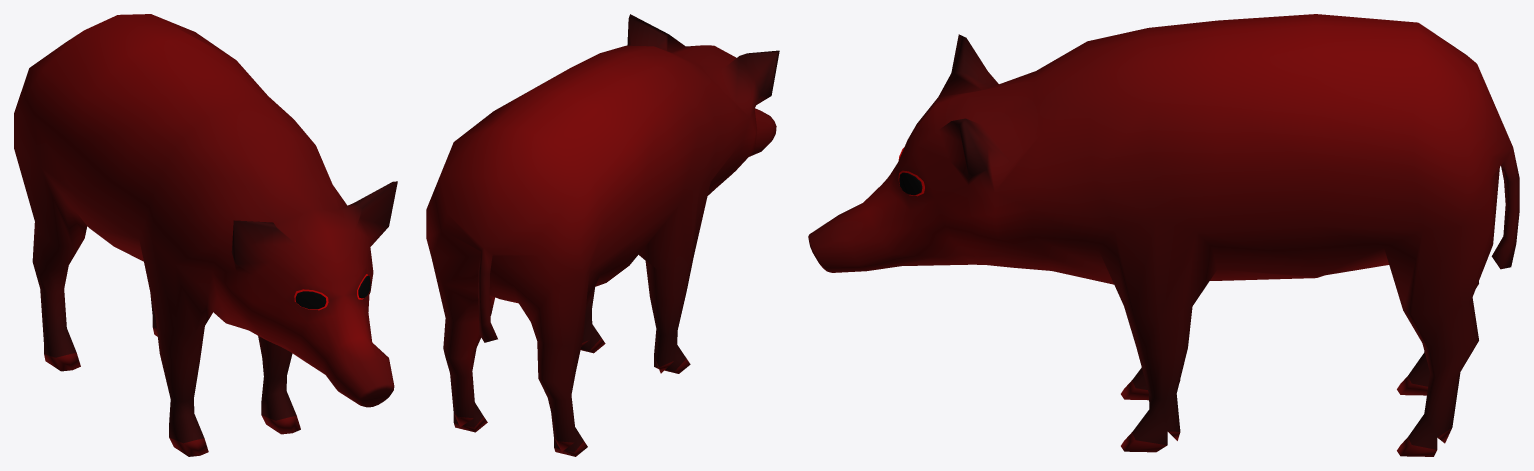
Rendered from Animals_Boar.fbx.
The picture shows the model from 3 angles, left to right: view 1: azimuth 30°, elevation 25°; view 2: azimuth 150°, elevation 25°; view 3: azimuth 270°, elevation 25°; orthographic projection. The views are drawn at different scales.
Parts seen in each view (by area): view 1: base; view 2: base; view 3: base.
Part boxes in pixels (x1,y1,x2,y2): base: (14,14,397,456); base: (426,14,779,456); base: (808,14,1519,456).
Bounding box in the file's own units: 45.09 × 83.72 × 137.
